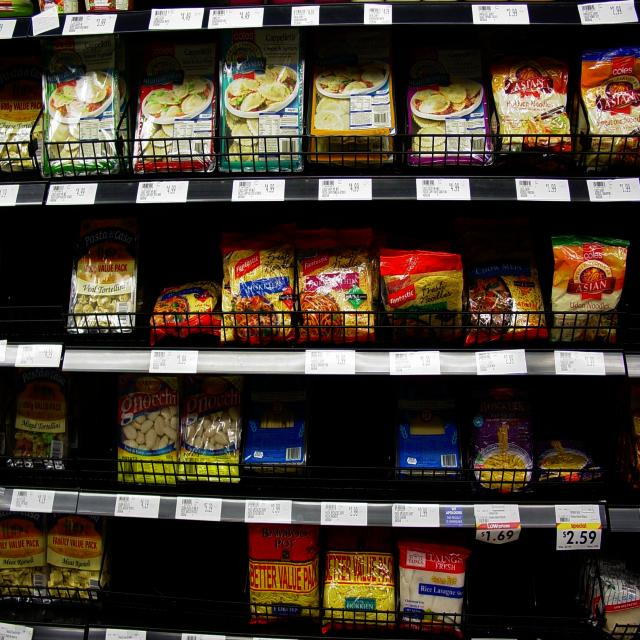empty_space: (118, 544, 244, 624), (477, 564, 577, 632), (315, 418, 393, 494), (9, 241, 66, 323), (553, 398, 620, 440), (80, 404, 108, 484)
